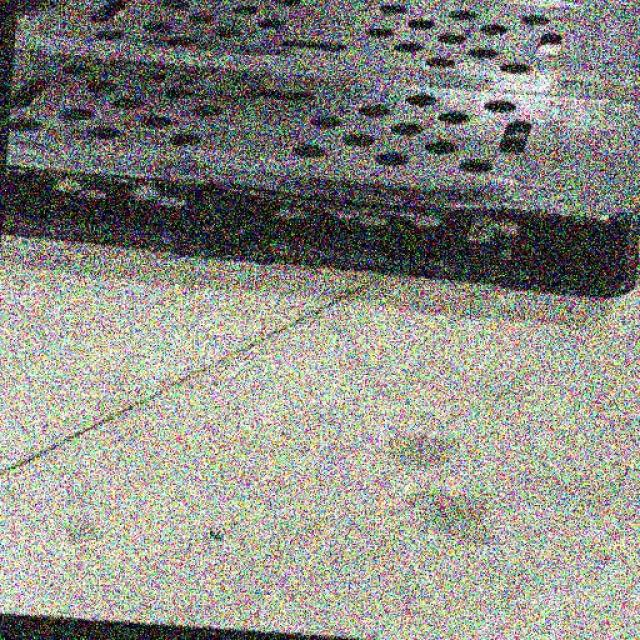igps: (1, 0, 639, 308)
